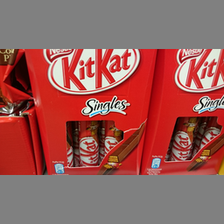chocolate: (25, 49, 157, 175), (146, 49, 224, 176)
